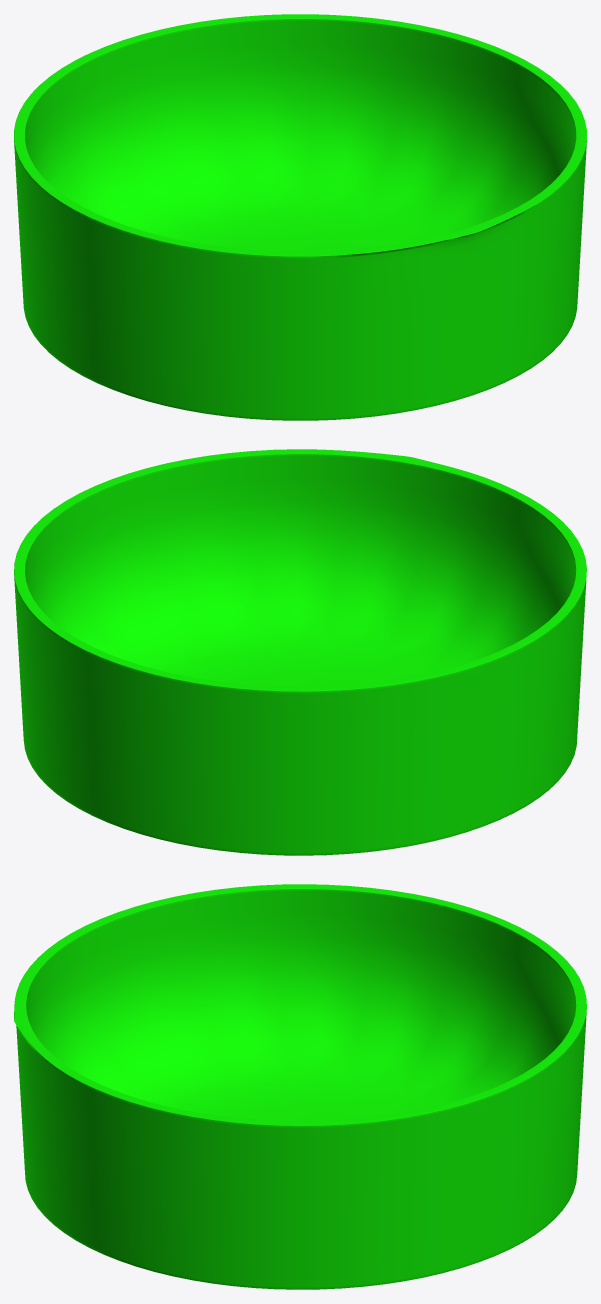
Rendered from Bowl003.fbx.
The picture shows the model from 3 angles, top to bottom: view 1: azimuth 30°, elevation 25°; view 2: azimuth 150°, elevation 25°; view 3: azimuth 270°, elevation 25°; orthographic projection.
Parts seen in each view (by area): view 1: Bowl003; view 2: Bowl003; view 3: Bowl003.
Part boxes in pixels (x1=…): Bowl003: x1=14, y1=14, x2=586, y2=420; Bowl003: x1=14, y1=449, x2=586, y2=855; Bowl003: x1=14, y1=884, x2=586, y2=1289.
Bounding box in the file's own units: 26.52 × 8.61 × 26.58.
